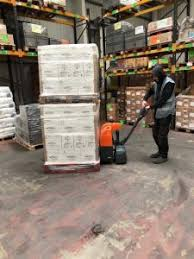Pallet Jack: (44, 105, 155, 172)
